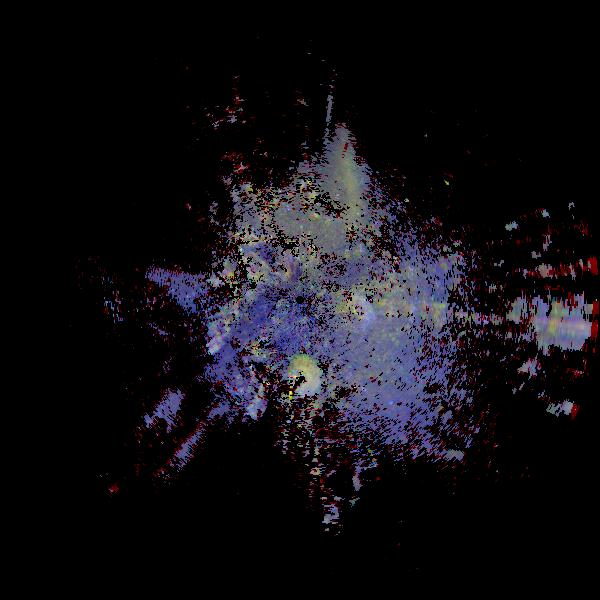roost: (275, 347, 335, 407), (327, 283, 387, 343), (541, 390, 586, 435), (513, 358, 549, 394)
